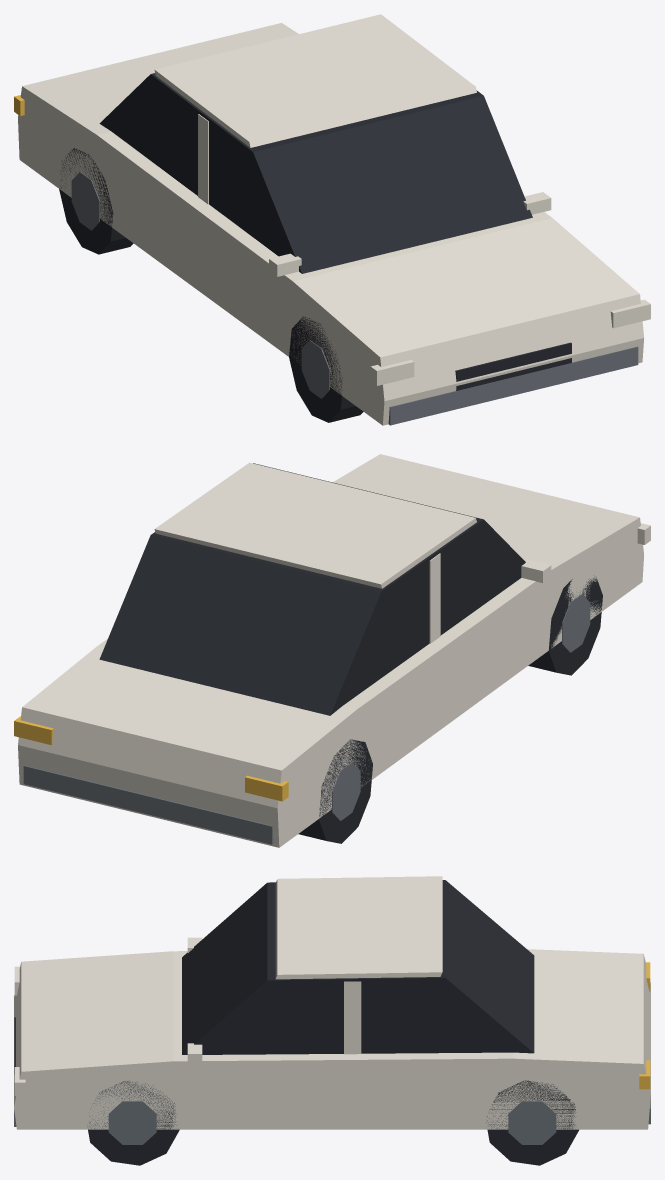
Rendered from car_sedan_white.glb.
The picture shows the model from 3 angles, top to bottom: view 1: azimuth 30°, elevation 25°; view 2: azimuth 150°, elevation 25°; view 3: azimuth 270°, elevation 25°; orthographic projection. The views are drawn at different scales.
Visible parts, largest first — view 1: car_sedan_white_mesh; view 2: car_sedan_white_mesh; view 3: car_sedan_white_mesh.
Part boxes in pixels (x1,y1,x2,y2): car_sedan_white_mesh: (14, 14, 650, 425); car_sedan_white_mesh: (14, 454, 650, 847); car_sedan_white_mesh: (14, 876, 650, 1165).
Bounding box in the file's own units: 1.9 × 1.42 × 4.4.
1 material, 1 textured.
